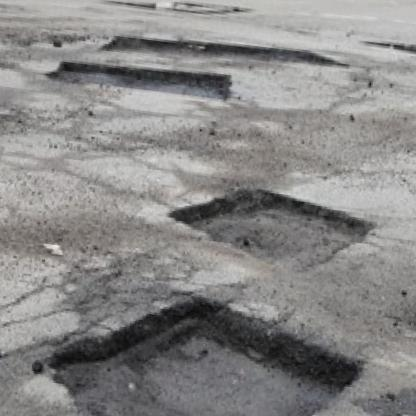pothole: (40, 273, 371, 416), (166, 174, 380, 283), (98, 22, 348, 80), (45, 51, 238, 106), (361, 31, 416, 71)
